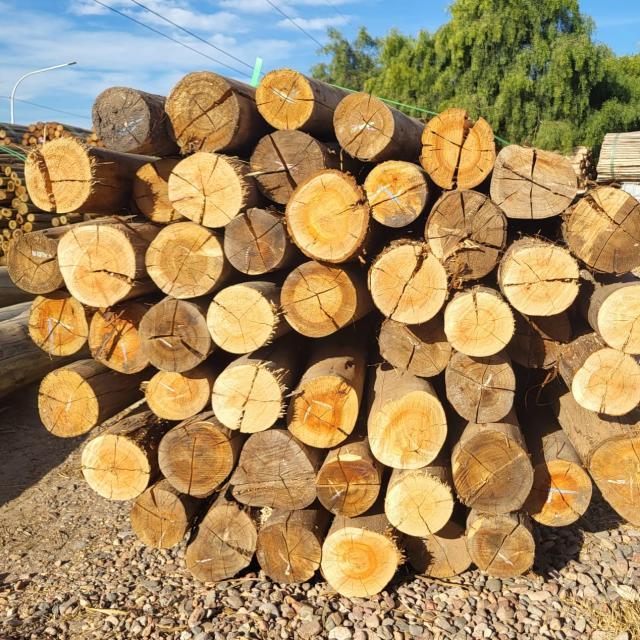package: (6, 70, 640, 596), (0, 148, 33, 266)
